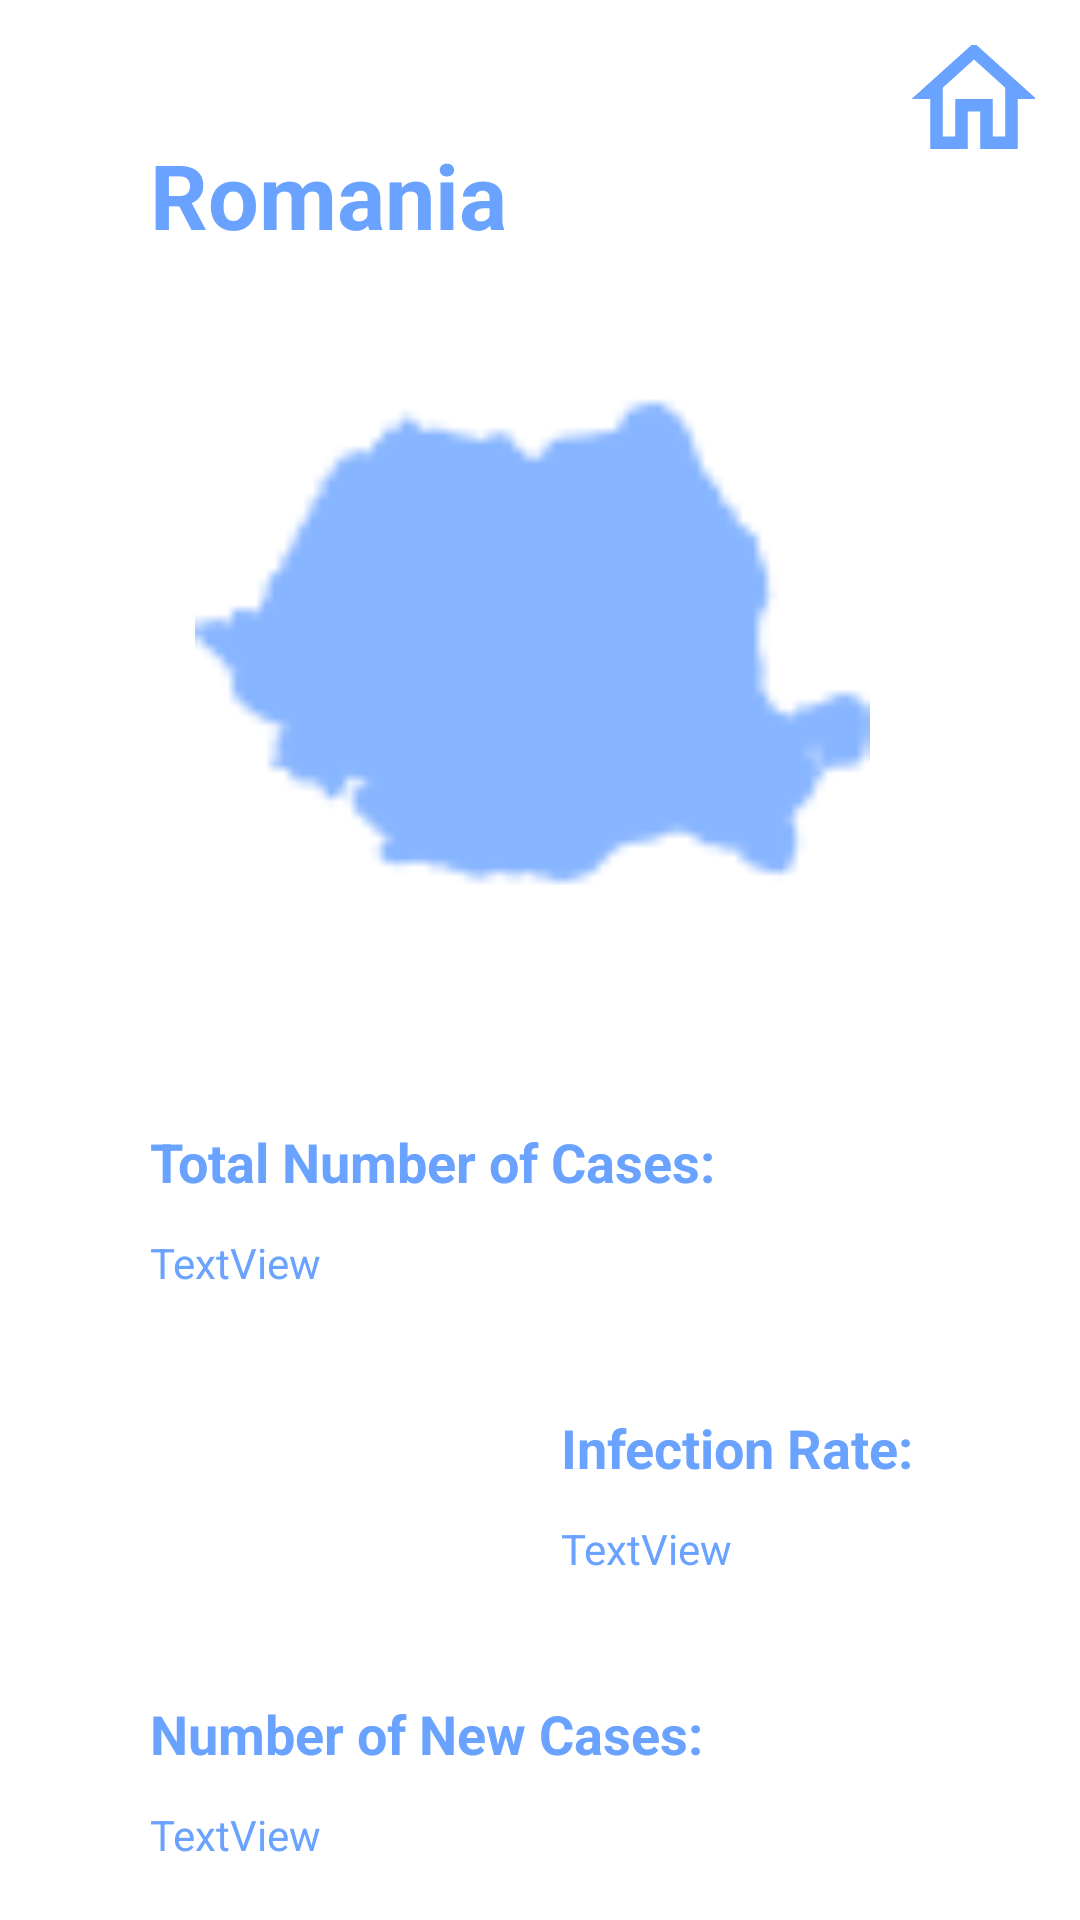

Icons on this 1080px×1920px Android screen, each with its box as (x1, y1, x2, y2):
home: (912, 45, 1035, 149)
